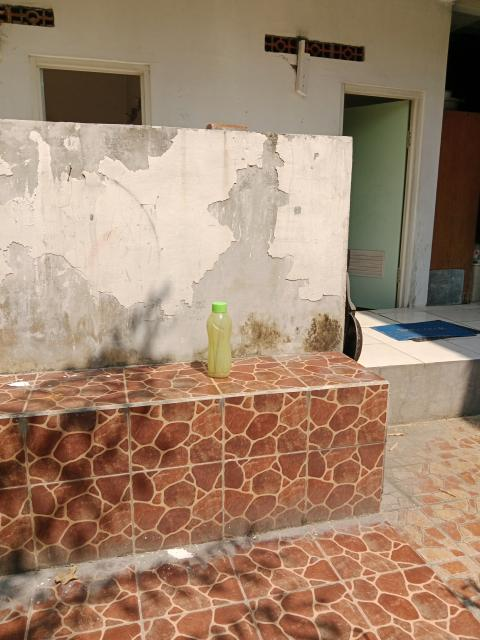botol: (207, 296, 235, 383)
